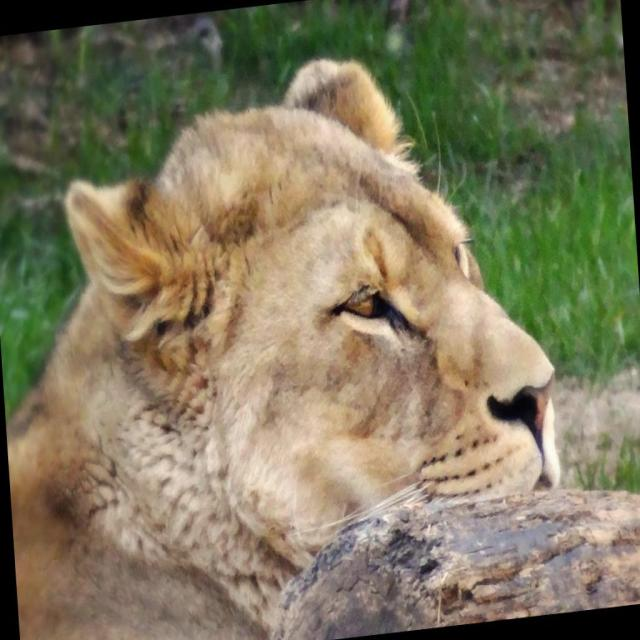Lion: (0, 34, 571, 639)
